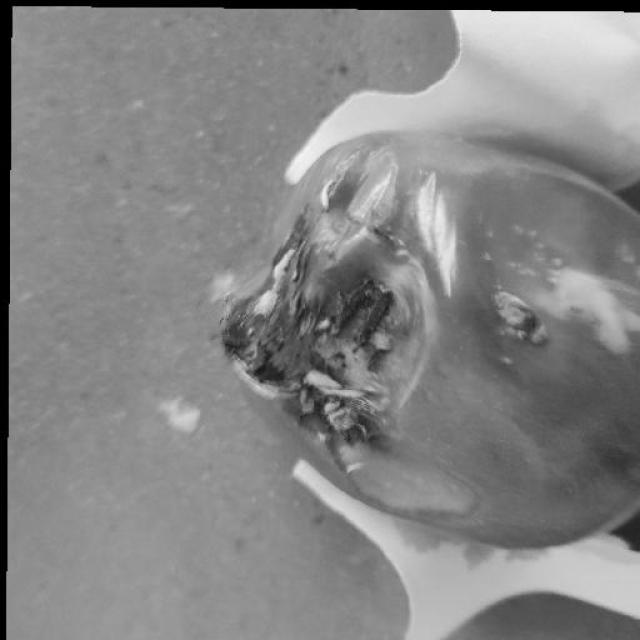Stale_tomato: (229, 117, 640, 548)
